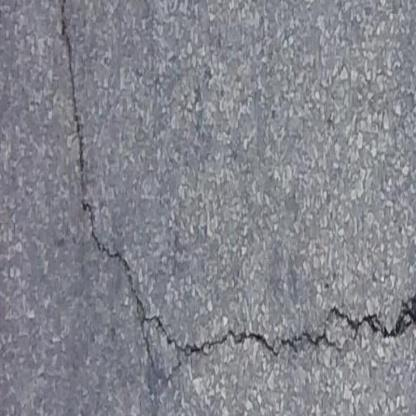Cracks: (79, 200, 342, 364), (56, 0, 90, 179), (326, 278, 416, 345)
